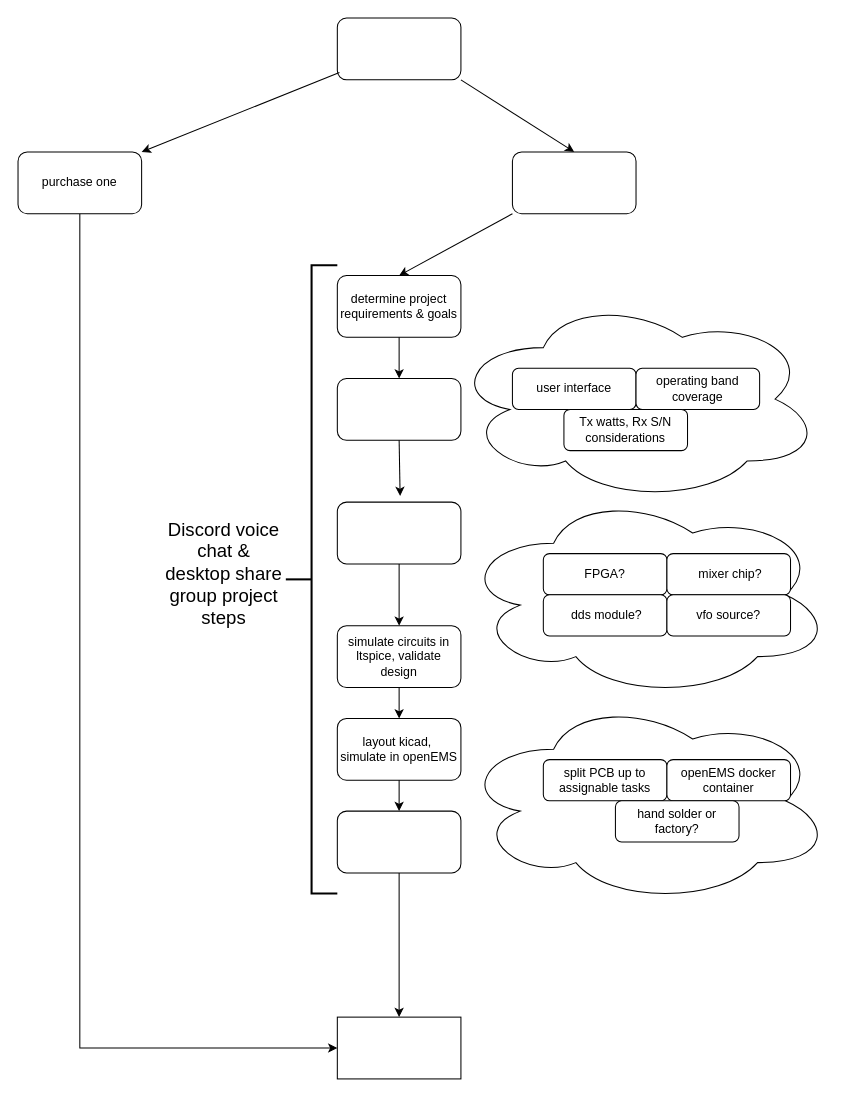
Some shapes in this 850 by 1097 pixel diagram are drawn without their labels. The centre of each missing label's shape, as x and y in pixels:
DIY solder project: the point at 573,182
fabricate PCBs, assemble: the point at 398,841
identify design criteria: the point at 398,408
select foundational components: the point at 398,532
transceiver obtained: the point at 398,1047
want a transciever: the point at 398,48
